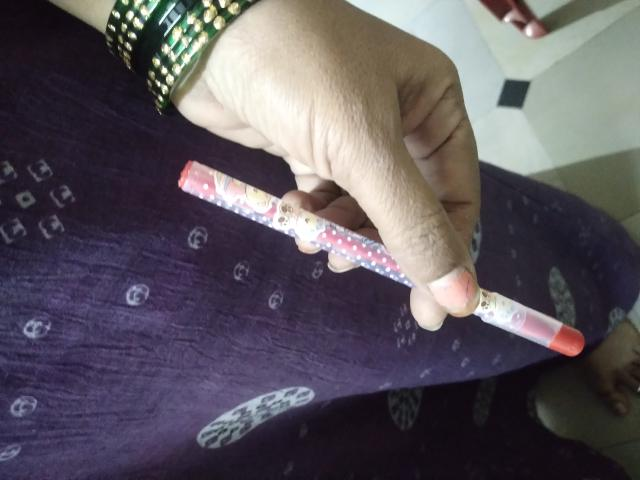PEN: (94, 162, 319, 480)
